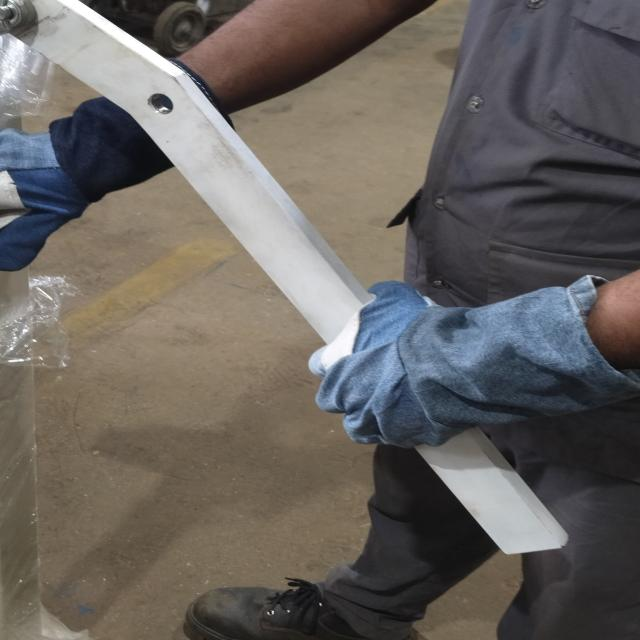Gloves-Detection: (332, 269, 610, 466), (0, 96, 173, 276)
